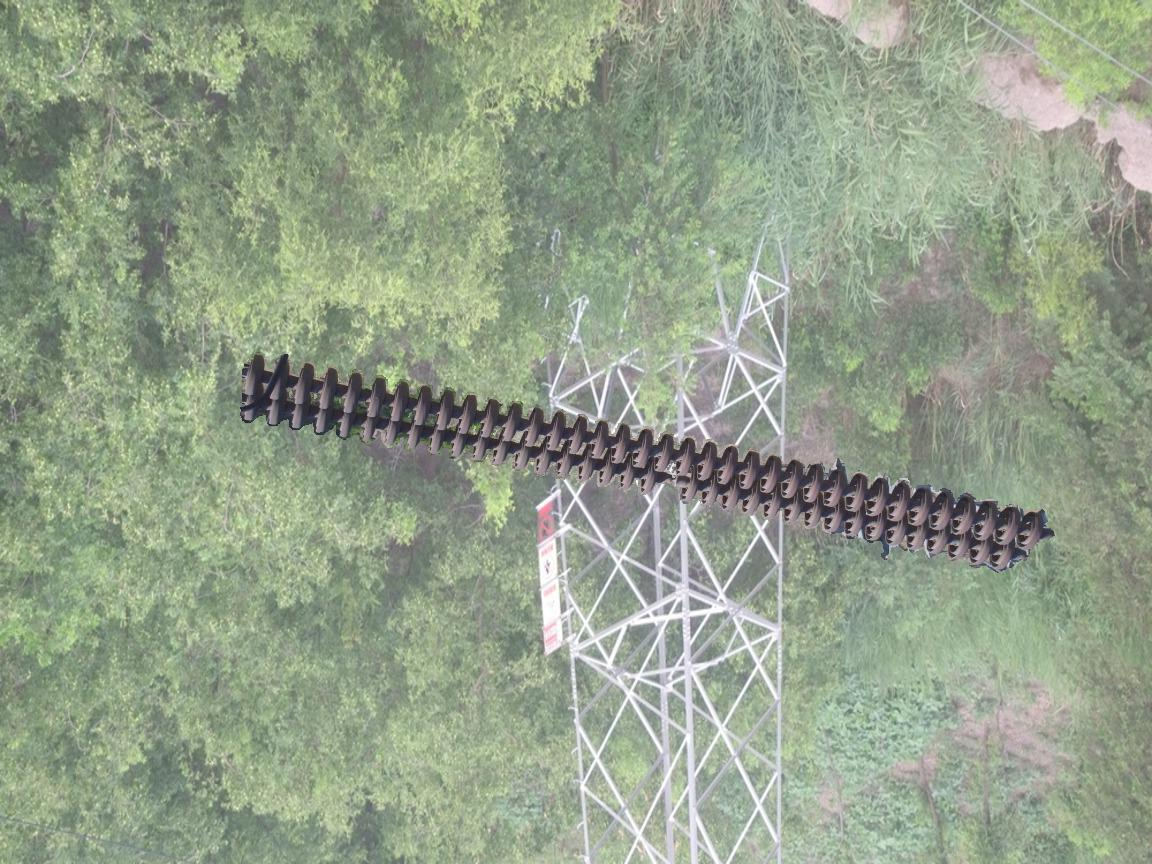insulator: (232, 344, 1051, 580)
insulator_stringdrop: (637, 455, 701, 505)
